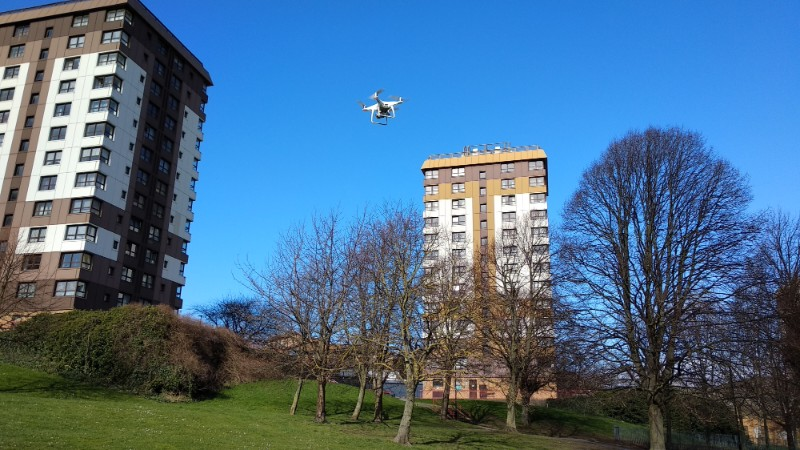drone: (357, 89, 408, 126)
